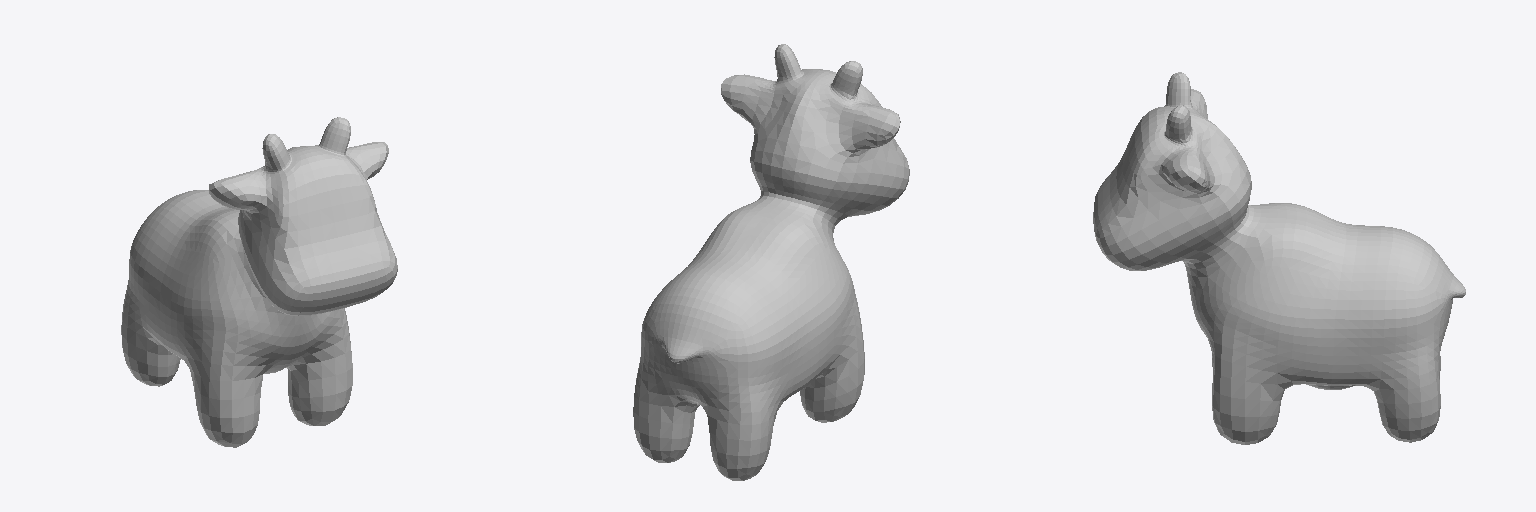
Rendered from spot.obj.
The picture shows the model from 3 angles: view 1: azimuth 30°, elevation 25°; view 2: azimuth 150°, elevation 25°; view 3: azimuth 270°, elevation 25°; orthographic projection.
Parts seen in each view (by area): view 1: spot; view 2: spot; view 3: spot.
Part boxes in pixels (x1,y1,x2,y2): spot: (121,117,397,447); spot: (633,44,909,480); spot: (1093,72,1465,444).
Size of the model in its own units: 0.9431 by 1.69 by 1.72.